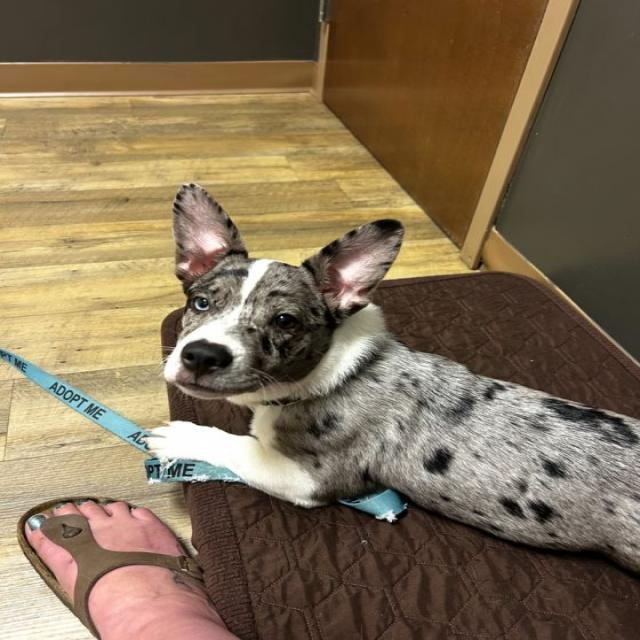corgi_dog: (140, 168, 423, 424)
